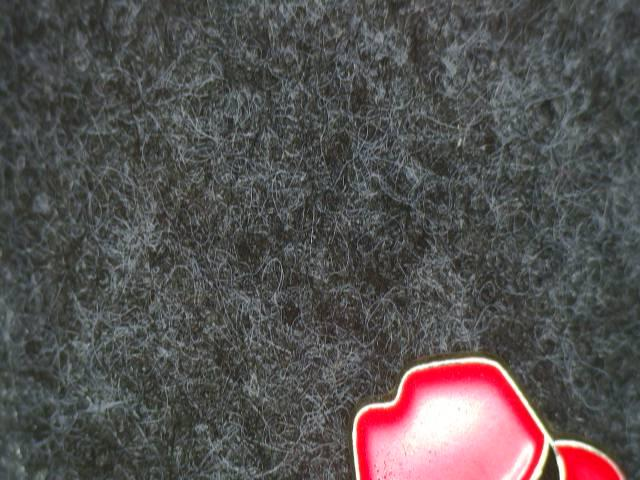Red-Hat: (297, 332, 640, 480)
